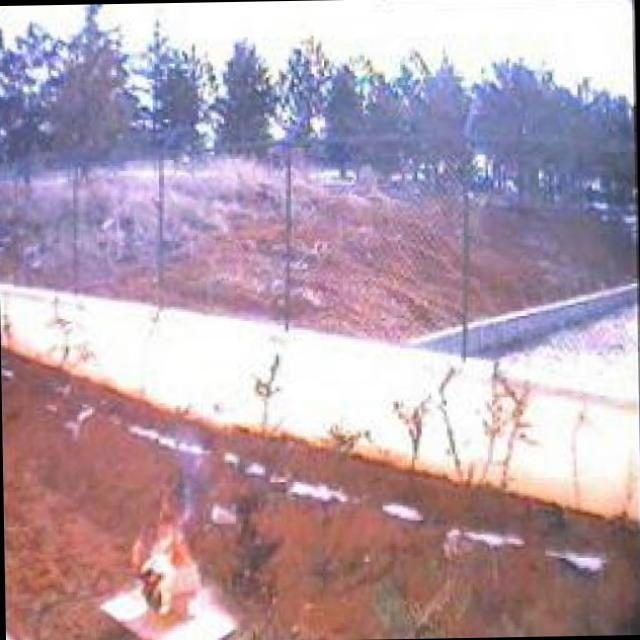Fire: (127, 477, 205, 627)
